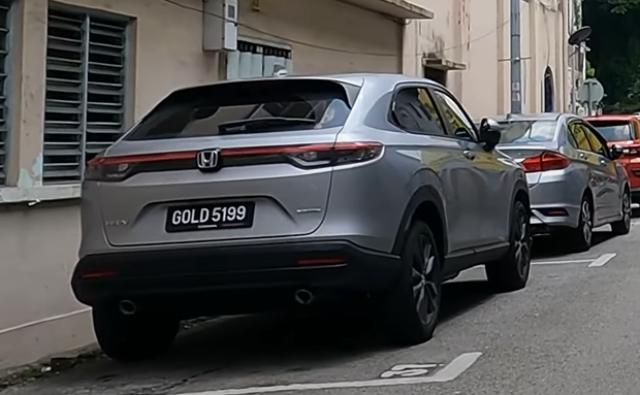License_Plate: (165, 199, 256, 233)
car: (71, 72, 534, 360), (480, 113, 632, 250)
